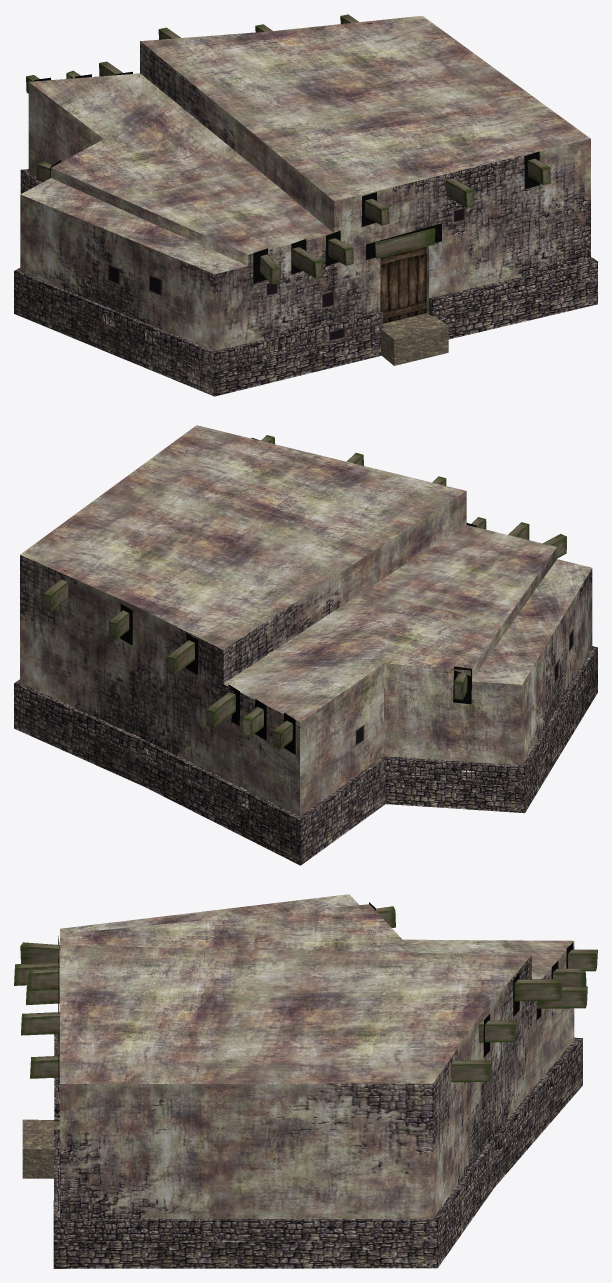
The model's file is jail_exterior.fbx.
3 views of the same model, one above another, from view 1: azimuth 30°, elevation 25°; view 2: azimuth 150°, elevation 25°; view 3: azimuth 270°, elevation 25° (orthographic). The views are drawn at different scales.
Visible parts, largest first — view 1: building_exterior.001, base01, jail_exteriorbase, door_left, base02, beam_15, beam_11, beam_8, beam_10, beam_9; view 2: building_exterior.001, base01, jail_exteriorbase, beam_6, beam_3; view 3: building_exterior.001, base01, jail_exteriorbase, base02, beam_3, beam_5, beam_8, beam_4, beam_13, beam_6, beam_9, beam_7 (+4 smaller).
Part boxes in pixels (x1=…): building_exterior.001: x1=20, y1=15, x2=590, y2=351; base01: x1=14, y1=188, x2=597, y2=396; jail_exteriorbase: x1=14, y1=169, x2=597, y2=372; door_left: x1=380, y1=247, x2=426, y2=323; base02: x1=380, y1=313, x2=448, y2=365; beam_15: x1=374, y1=228, x2=435, y2=258; beam_11: x1=292, y1=247, x2=323, y2=278; beam_8: x1=446, y1=178, x2=474, y2=207; beam_10: x1=328, y1=238, x2=353, y2=265; beam_9: x1=365, y1=198, x2=389, y2=225; building_exterior.001: x1=20, y1=425, x2=592, y2=816; base01: x1=14, y1=667, x2=597, y2=865; jail_exteriorbase: x1=14, y1=646, x2=597, y2=840; beam_6: x1=206, y1=692, x2=235, y2=727; beam_3: x1=167, y1=640, x2=194, y2=674; building_exterior.001: x1=59, y1=894, x2=574, y2=1218; base01: x1=53, y1=1059, x2=582, y2=1268; jail_exteriorbase: x1=53, y1=1034, x2=582, y2=1241; base02: x1=22, y1=1119, x2=59, y2=1178; beam_3: x1=513, y1=979, x2=562, y2=1001; beam_5: x1=451, y1=1060, x2=491, y2=1082; beam_8: x1=21, y1=1012, x2=59, y2=1035; beam_4: x1=478, y1=1020, x2=516, y2=1042; beam_13: x1=20, y1=942, x2=59, y2=963; beam_6: x1=537, y1=986, x2=587, y2=1008; beam_9: x1=28, y1=968, x2=59, y2=991; beam_7: x1=30, y1=1056, x2=59, y2=1078.
Bounding box in the file's own units: 6565 × 2310 × 6668.
Materials: 6 (6 with a texture image).
